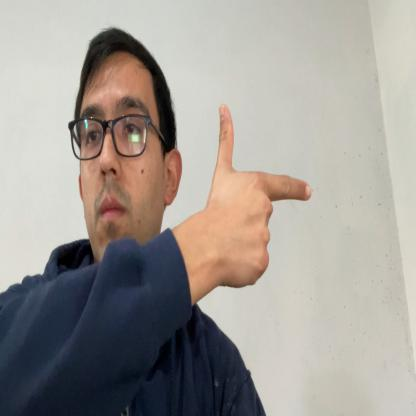G: (211, 103, 312, 289)
